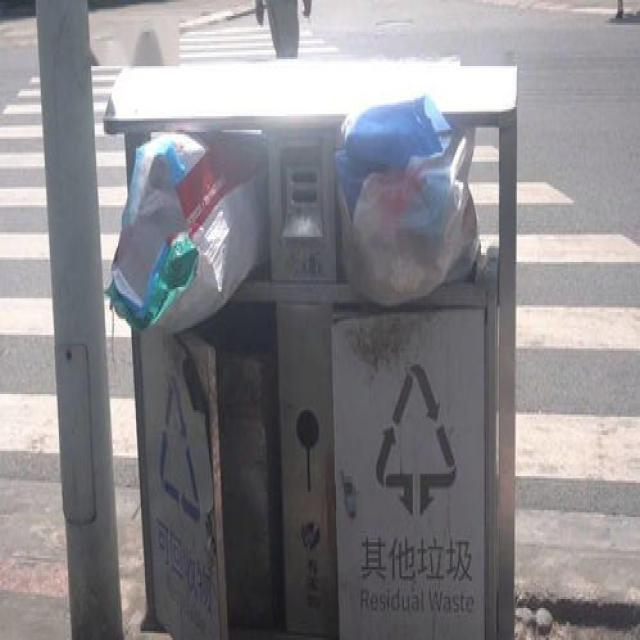overflow: (103, 55, 514, 638)
